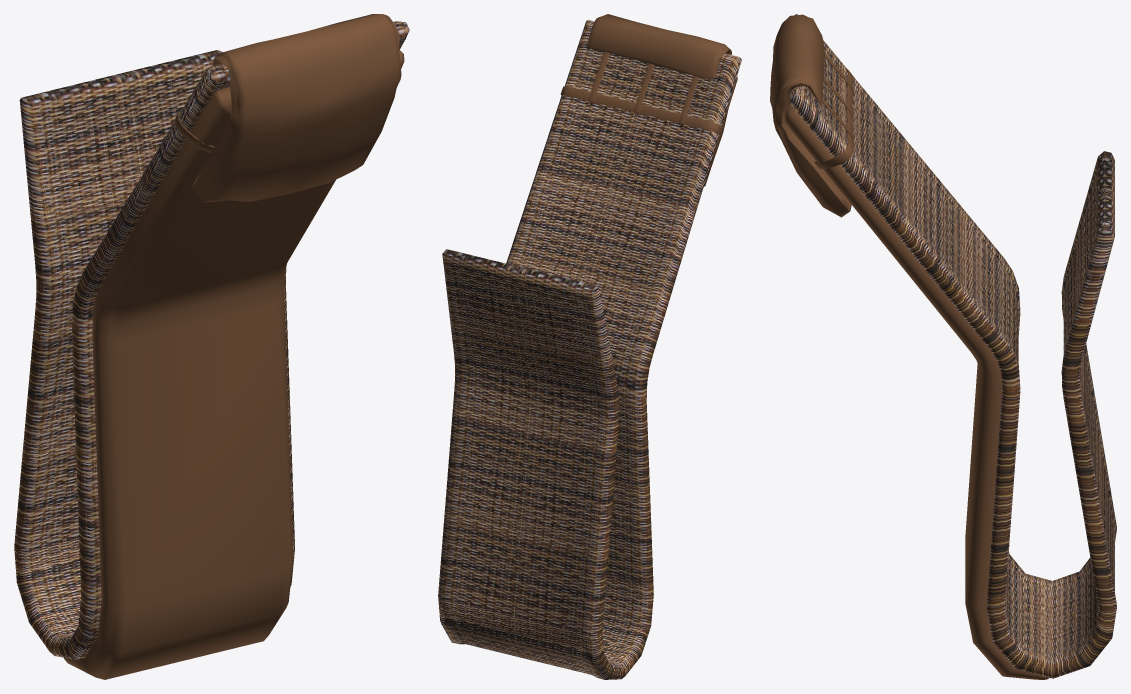
File: DeckchairL0.obj
3 renders of one model, left to right at view 1: azimuth 30°, elevation 25°; view 2: azimuth 150°, elevation 25°; view 3: azimuth 270°, elevation 25°, orthographic. The views are drawn at different scales.
Visible parts, largest first — view 1: Cushion, Rattan; view 2: Rattan, Cushion; view 3: Rattan, Cushion.
Boxes of the visible parts, x1,y1,x2,y2 form: Cushion: [64, 14, 404, 679]; Rattan: [14, 21, 409, 660]; Rattan: [438, 20, 741, 679]; Cushion: [560, 14, 737, 679]; Rattan: [789, 14, 1116, 678]; Cushion: [770, 14, 1048, 679].
Bounding box in the file's own units: 23.94 × 78.62 × 41.04.
